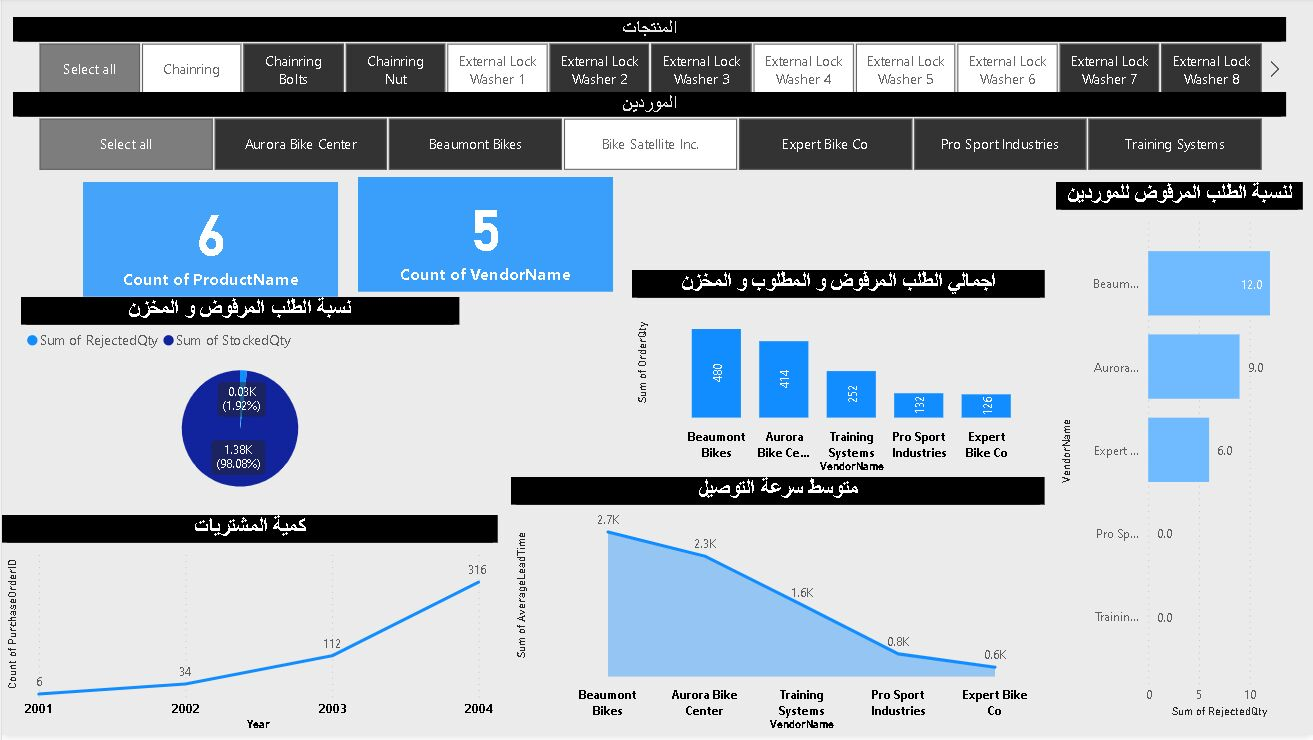

What the dashboard file says about the page in this screenshot:
{"tool":"powerbi","page":{"name":"Page 1","canvas":[1280,720],"ordinal":0},"visuals":[{"type":"pieChart","title":"نسبة الطلب المرفوض و المخزن","fields":{"Y":["Sum(View_Production.RejectedQty)","Sum(View_Production.StockedQty)"]},"box":[18.6,291.9,427.6,206],"z":0},{"type":"clusteredBarChart","title":"  لنسبة الطلب المرفوض للموردين","fields":{"Category":["View_Production.VendorName"],"Y":["Sum(View_Production.RejectedQty)"]},"box":[1029.1,179.6,241.2,527.2],"z":1000},{"type":"columnChart","title":"اجمالي الطلب  المرفوض و المطلوب و المخزن","fields":{"Category":["View_Production.VendorName"],"Y":["Sum(View_Production.OrderQty)"]},"box":[615.1,265.6,403.2,202.1],"z":2000},{"type":"lineChart","title":"كمية المشتريات","fields":{"Category":["View_Production.DueDate.Variation.Date Hierarchy.Year","View_Production.DueDate.Variation.Date Hierarchy.Quarter","View_Production.DueDate.Variation.Date Hierarchy.Month","View_Production.DueDate.Variation.Date Hierarchy.Day"],"Y":["CountNonNull(View_Production.PurchaseOrderID)"]},"box":[0,504.8,484.4,215],"z":3000},{"type":"areaChart","title":"متوسط سرعة التوصيل","fields":{"Category":["View_Production.VendorName"],"Y":["Sum(View_Production.AverageLeadTime)"]},"box":[497,467.7,521.4,251.9],"z":4000},{"type":"card","fields":{"Values":["Count(View_Production.ProductName)"]},"box":[79.1,179.6,249,112.3],"z":5000},{"type":"card","fields":{"Values":["Count(View_Production.VendorName)"]},"box":[347.6,174.8,249,112.3],"z":6000},{"type":"slicer","title":"الموردين","fields":{"Values":["View_Production.VendorName"]},"box":[10.7,9.8,1259.5,78.1],"z":7000},{"type":"slicer","title":"المنتجات","fields":{"Values":["View_Production.ProductName"]},"box":[0,87.9,1280,81],"z":8000}]}

Visuals, with their boxes in screenshot pixels (x1, y1, x2, y2), scaled from the page's 1280x720 canvas onto the 1313x740 screenshot:
"نسبة الطلب المرفوض و المخزن" pieChart: l=19, t=300, r=458, b=512
"  لنسبة الطلب المرفوض للموردين" clusteredBarChart: l=1056, t=185, r=1303, b=726
"اجمالي الطلب  المرفوض و المطلوب و المخزن" columnChart: l=631, t=273, r=1045, b=481
"كمية المشتريات" lineChart: l=0, t=519, r=497, b=739
"متوسط سرعة التوصيل" areaChart: l=510, t=481, r=1045, b=739
card - Count(View_Production.ProductName): l=81, t=185, r=337, b=300
card - Count(View_Production.VendorName): l=357, t=180, r=612, b=295
"الموردين" slicer: l=11, t=10, r=1303, b=90
"المنتجات" slicer: l=0, t=90, r=1312, b=174
